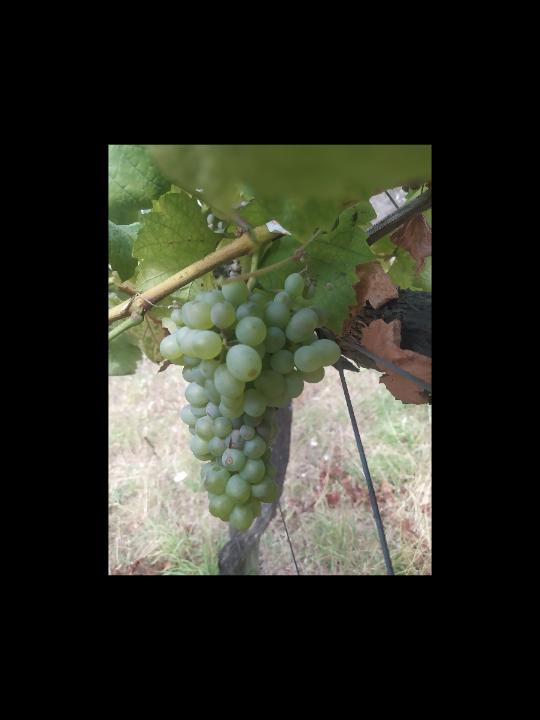grape: (159, 271, 343, 531)
